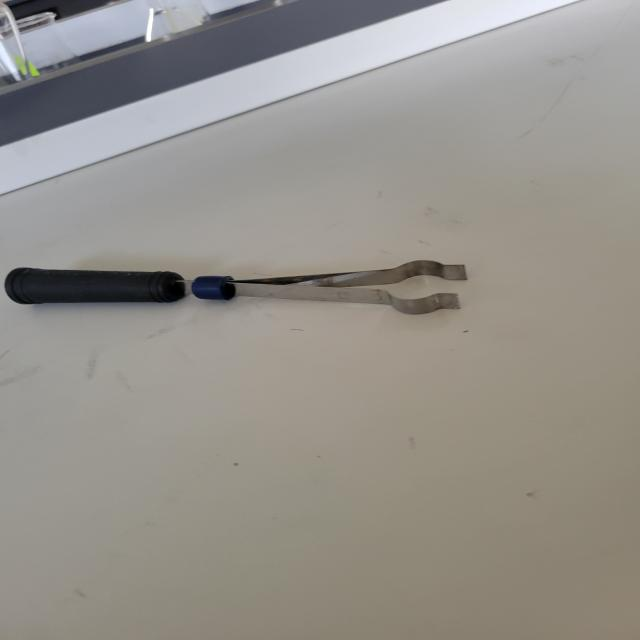TestTube_Holder: (0, 219, 512, 348)
